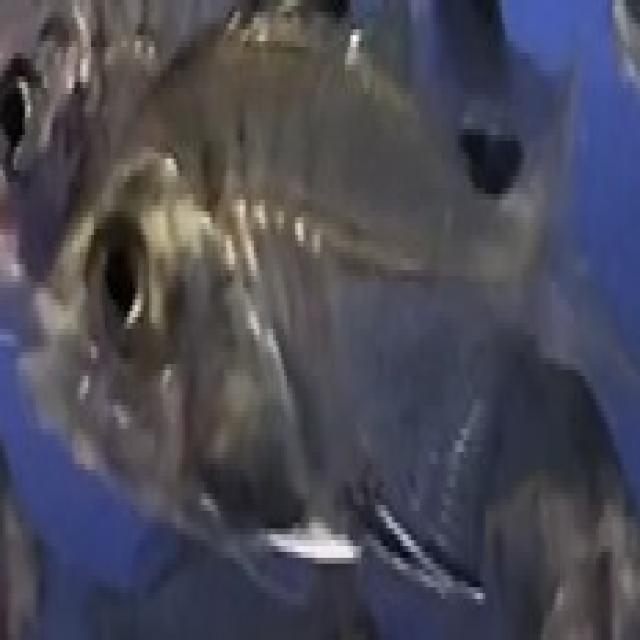Glass-Perchlet: (0, 3, 640, 585)
